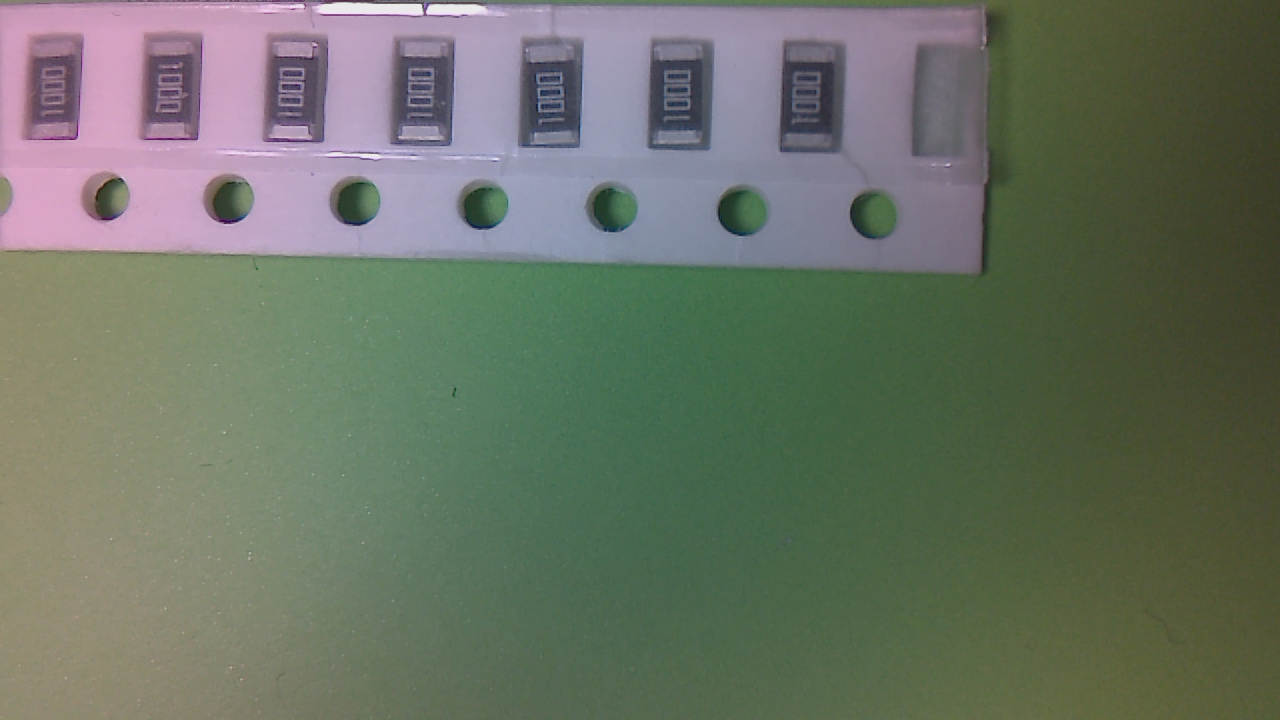Resistor: (653, 46, 714, 153), (395, 44, 457, 148), (266, 44, 327, 149), (786, 49, 845, 157), (525, 47, 584, 152), (145, 39, 204, 144), (32, 40, 82, 145)
